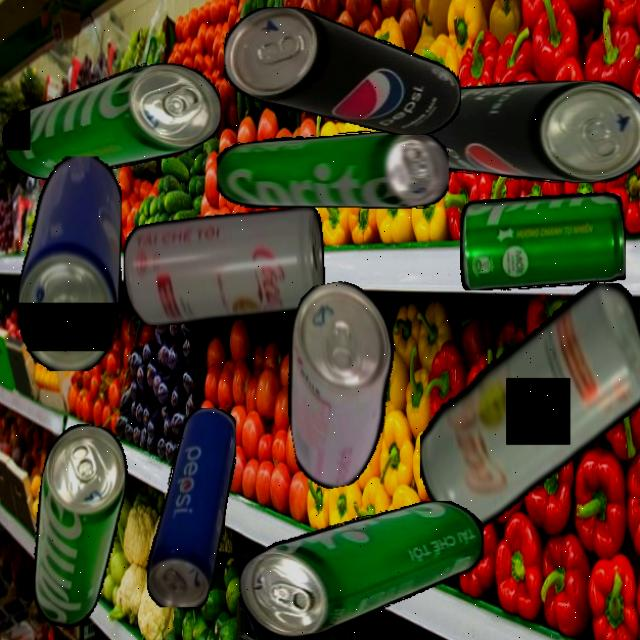debris: (419, 282, 640, 530), (239, 500, 484, 637), (268, 275, 414, 493), (224, 6, 461, 135), (0, 63, 221, 180), (17, 419, 135, 634), (123, 207, 325, 325), (407, 81, 640, 183), (16, 156, 122, 371), (146, 407, 236, 607), (216, 131, 449, 208), (459, 192, 626, 290)
